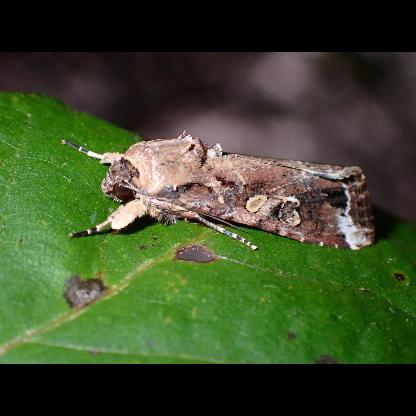Fall Armyworm Moth: (60, 128, 378, 254)
